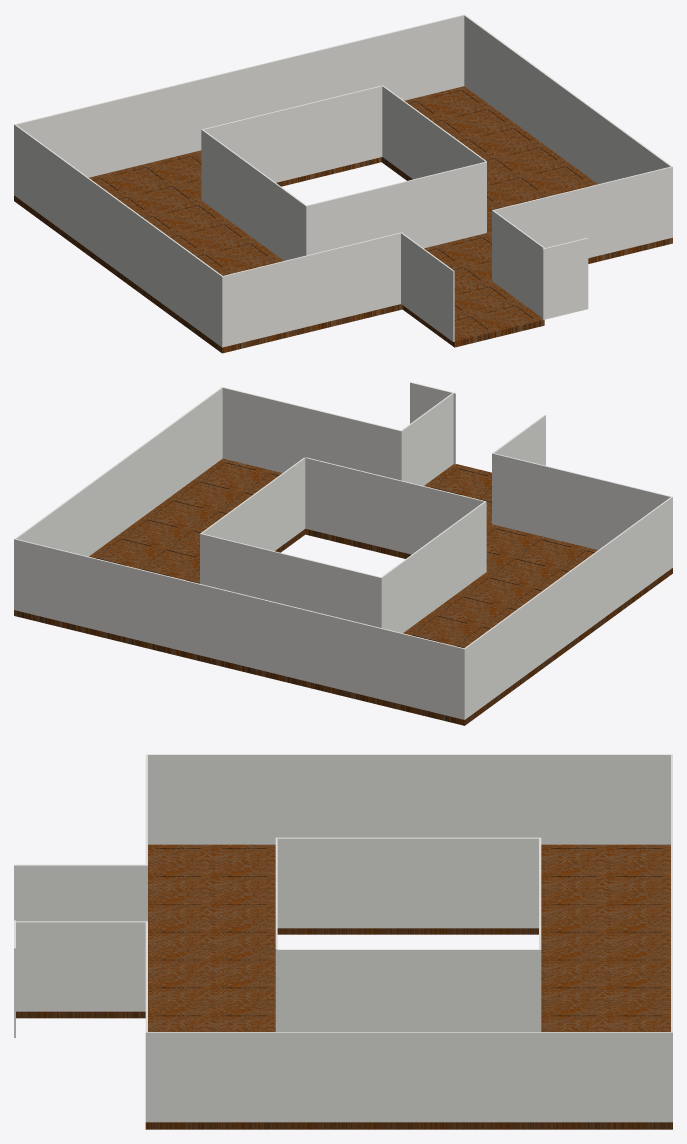
The model's file is Room.gltf.
3 renders of one model, top to bottom at view 1: azimuth 30°, elevation 25°; view 2: azimuth 150°, elevation 25°; view 3: azimuth 270°, elevation 25°, orthographic. The views are drawn at different scales.
Visible parts, largest first — view 1: Plane.121, Plane.054, Plane.053, Plane.112, Plane.052, Plane.023, Plane.113, Plane.114, Plane.124, Plane.039, Plane.120, Plane.008 (+59 smaller); view 2: Plane.115, Plane.022, Plane.023, Plane.114, Plane.116, Plane.117, Plane.118, Plane.123, Plane.124, Plane.122, Plane.052, Plane.008 (+55 smaller); view 3: Plane.058, Plane.101, Plane.059, Plane.042, Plane.044, Plane.098, Plane.102, Plane.043, Plane.040, Plane.041, Plane.009, Plane.106 (+44 smaller).
Part boxes in pixels (bbox=[...]): Plane.121: bbox=[542, 237, 588, 319]; Plane.054: bbox=[221, 265, 267, 347]; Plane.053: bbox=[267, 254, 312, 336]; Plane.112: bbox=[291, 96, 337, 178]; Plane.052: bbox=[312, 243, 357, 325]; Plane.023: bbox=[441, 162, 486, 243]; Plane.113: bbox=[337, 85, 382, 167]; Plane.114: bbox=[149, 80, 194, 162]; Plane.124: bbox=[104, 91, 149, 173]; Plane.039: bbox=[627, 166, 672, 248]; Plane.120: bbox=[420, 15, 464, 96]; Plane.008: bbox=[357, 232, 401, 314]; Plane.115: bbox=[239, 593, 284, 675]; Plane.022: bbox=[350, 468, 395, 550]; Plane.023: bbox=[305, 457, 350, 539]; Plane.114: bbox=[284, 604, 329, 686]; Plane.116: bbox=[194, 582, 239, 664]; Plane.117: bbox=[149, 571, 194, 653]; Plane.118: bbox=[104, 560, 149, 642]; Plane.123: bbox=[374, 626, 419, 708]; Plane.124: bbox=[329, 615, 374, 697]; Plane.122: bbox=[419, 637, 465, 719]; Plane.052: bbox=[537, 464, 582, 545]; Plane.008: bbox=[492, 453, 537, 534]; Plane.058: bbox=[277, 837, 343, 928]; Plane.101: bbox=[409, 837, 475, 928]; Plane.059: bbox=[343, 837, 409, 928]; Plane.042: bbox=[211, 1032, 277, 1122]; Plane.044: bbox=[343, 1032, 409, 1122]; Plane.098: bbox=[409, 1032, 475, 1122]; Plane.102: bbox=[475, 1032, 541, 1122]; Plane.043: bbox=[277, 1032, 343, 1122]; Plane.040: bbox=[211, 754, 277, 844]; Plane.041: bbox=[145, 1032, 211, 1122]; Plane.009: bbox=[80, 921, 145, 1011]; Plane.106: bbox=[541, 1032, 606, 1122].
Bounding box in the file's own units: 80 × 13 × 80.
Materials: 2 (2 with a texture image).
